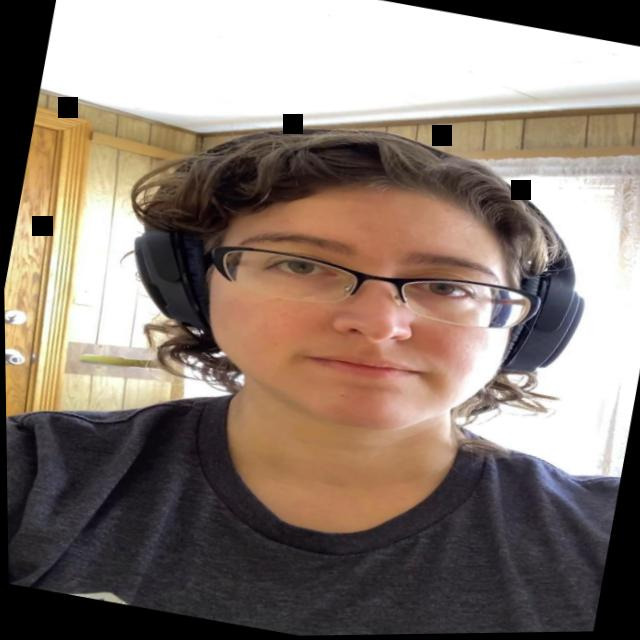NO-Mask: (176, 140, 544, 459)
